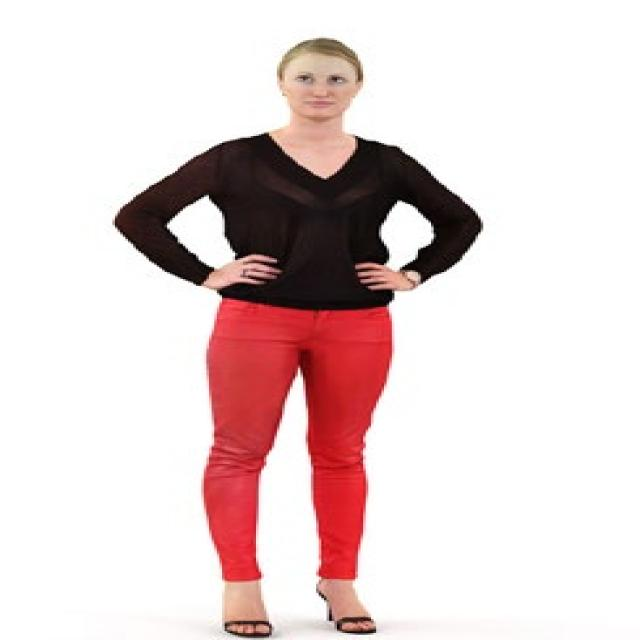standing: (110, 35, 493, 640)
